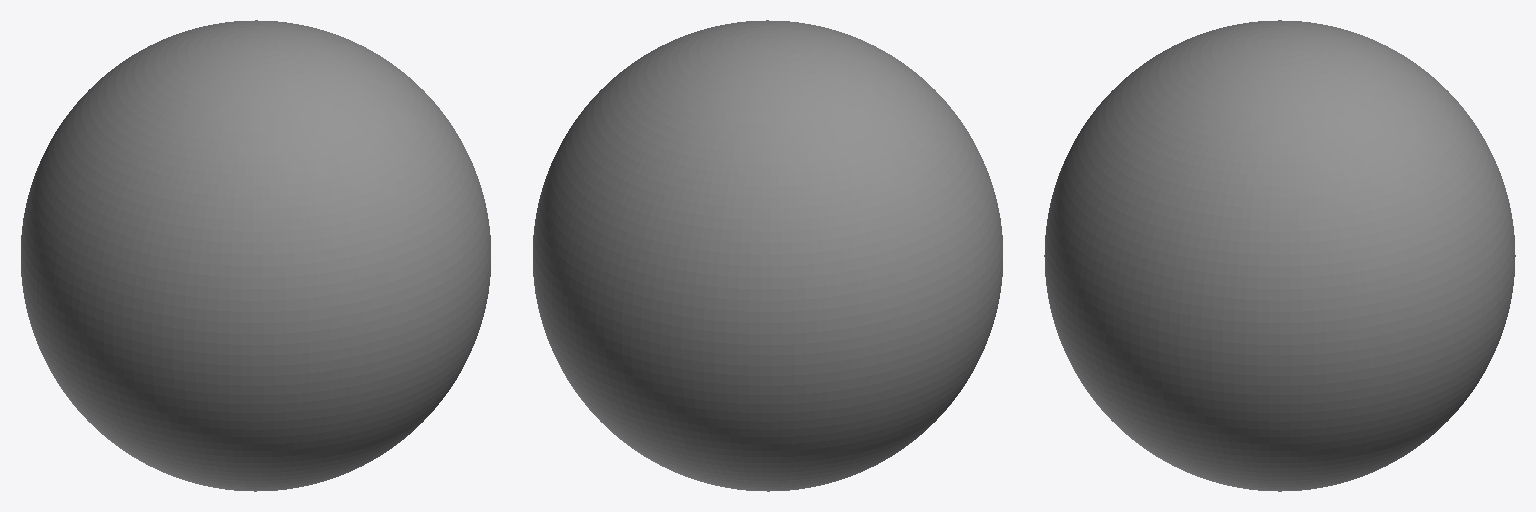
File: moon.obj
The picture shows the model from 3 angles: view 1: azimuth 30°, elevation 25°; view 2: azimuth 150°, elevation 25°; view 3: azimuth 270°, elevation 25°; orthographic projection.
Visible parts, largest first — view 1: Sphere001; view 2: Sphere001; view 3: Sphere001.
Boxes of the visible parts, box(x1,y1,x2,y2) form: Sphere001: box(21, 20, 490, 491); Sphere001: box(533, 20, 1002, 491); Sphere001: box(1044, 20, 1515, 491).
Size of the model in its own units: 181 by 181 by 181.